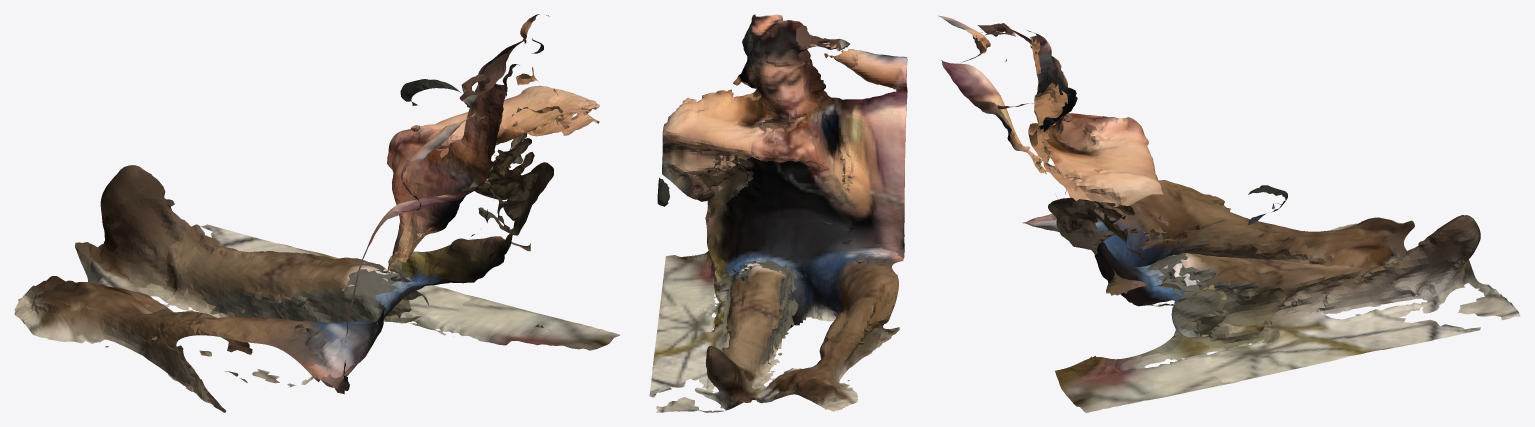
The picture shows the model from 3 angles, left to right: view 1: azimuth 30°, elevation 25°; view 2: azimuth 150°, elevation 25°; view 3: azimuth 270°, elevation 25°; orthographic projection. The views are drawn at different scales.
Bounding box in the file's own units: 0.9785 × 0.791 × 1.26.
Materials: 1 (1 with a texture image).
